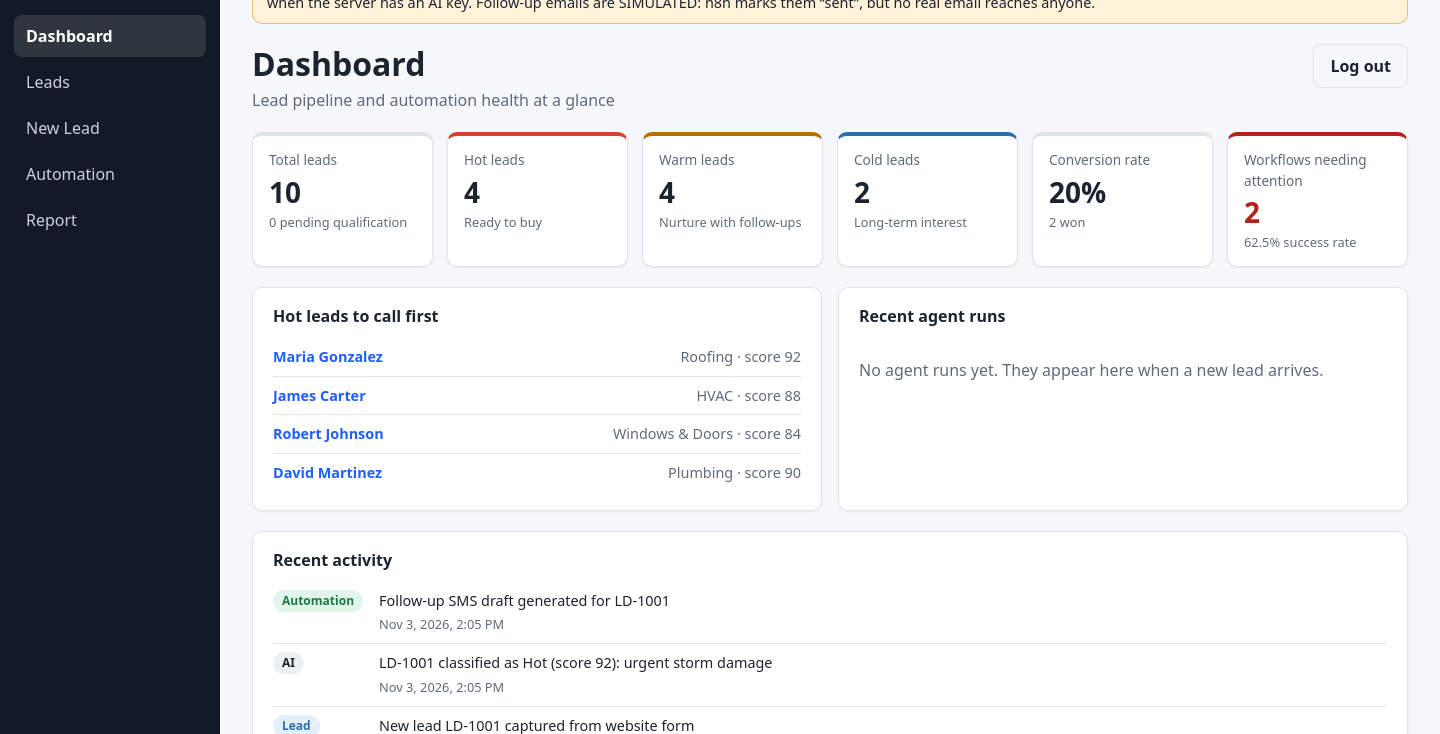
Scenario: lead detail: AI qualification › a failed RE-run still shows the previous result and its source, with a clear note
Expected: the heading "Hot leads to call first" is shown, [273,305,438,327]
Click the button "Leads" at (110,82), box [14,61,206,103]
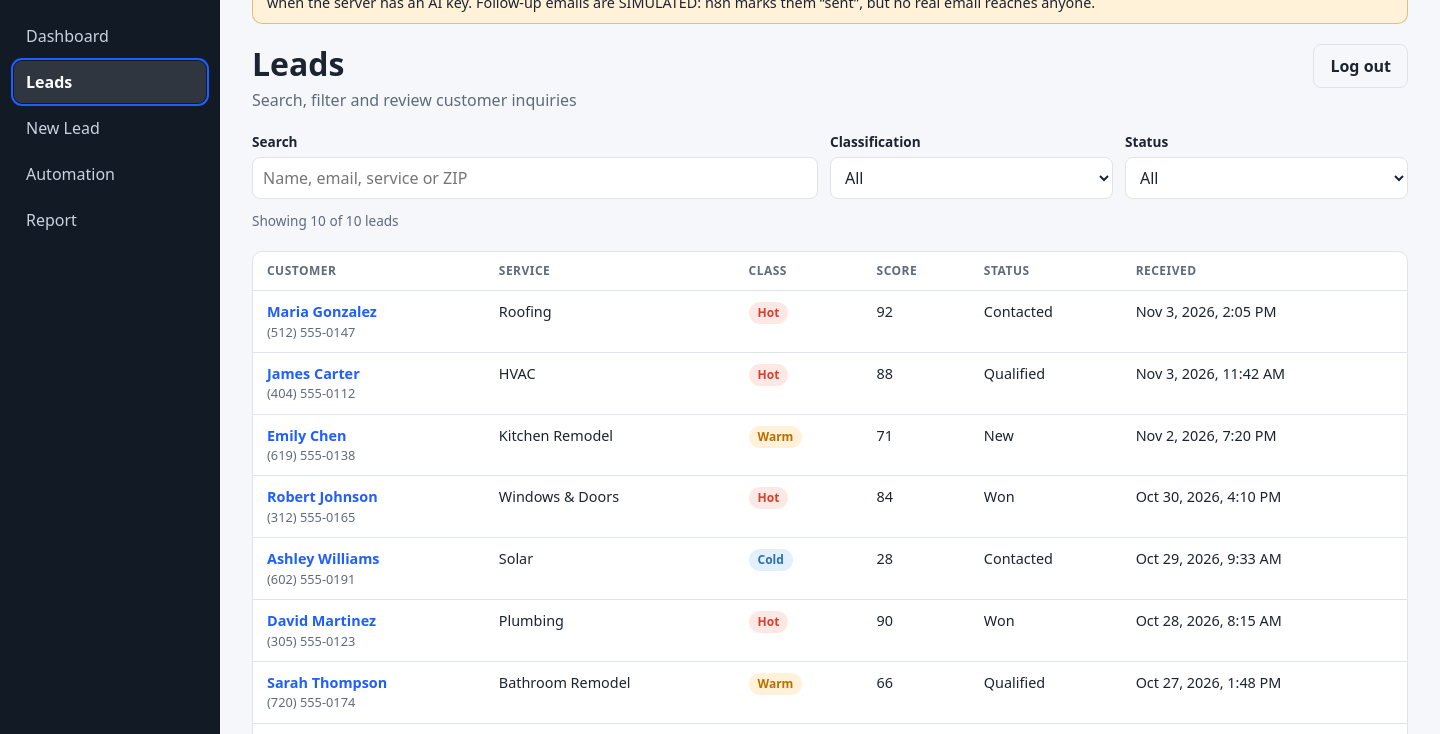
Click the button "Maria Gonzalez" at (322,312), box [267,301,377,323]
(page scrolled)
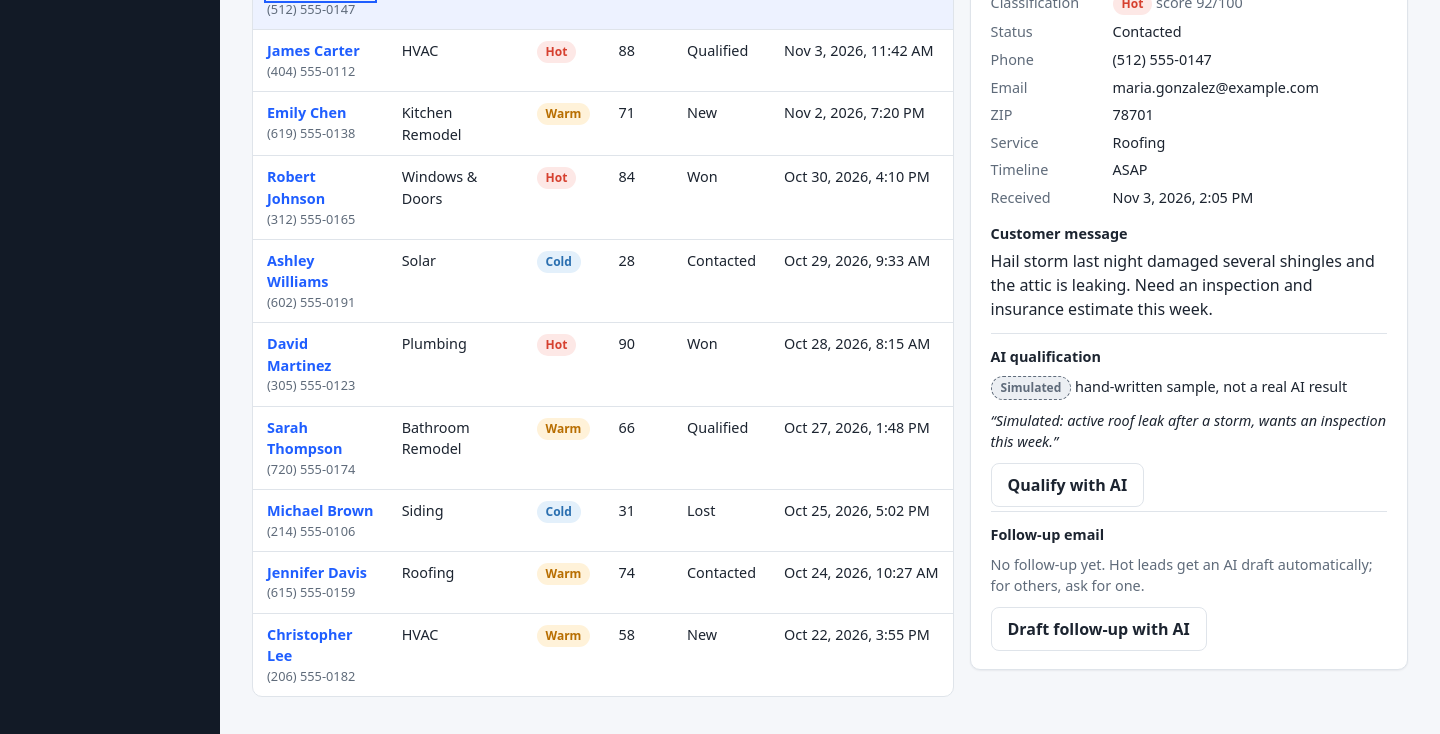
Click the button "Qualify with AI" at (1067,485), box [990,463,1144,507]
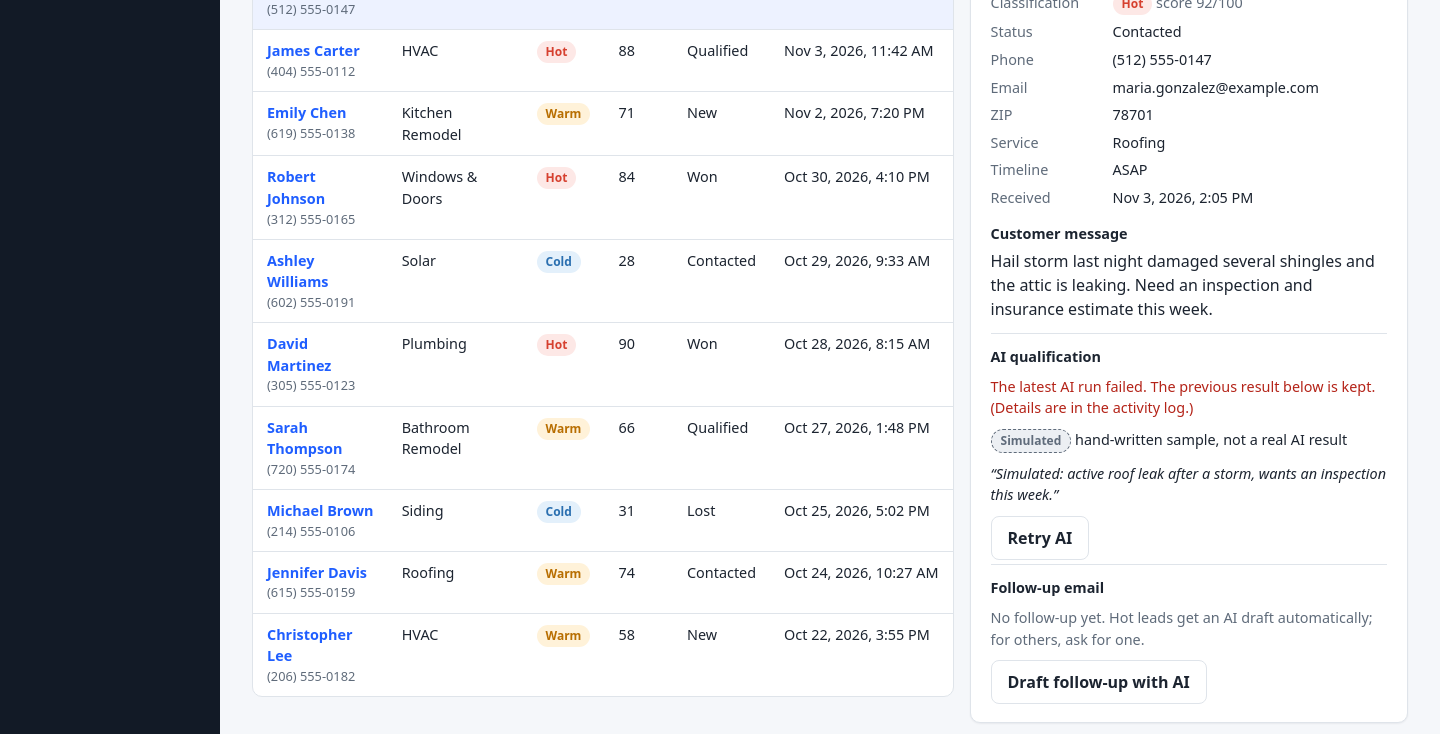
Expected: the text "Simulated" is shown, [990,429,1071,453]
Expected: the text "Simulated: active roof leak" is shown, [990,464,1386,504]
Expected: the text "The latest AI run failed. The previous result below is kept" is shown, [990,377,1375,417]
